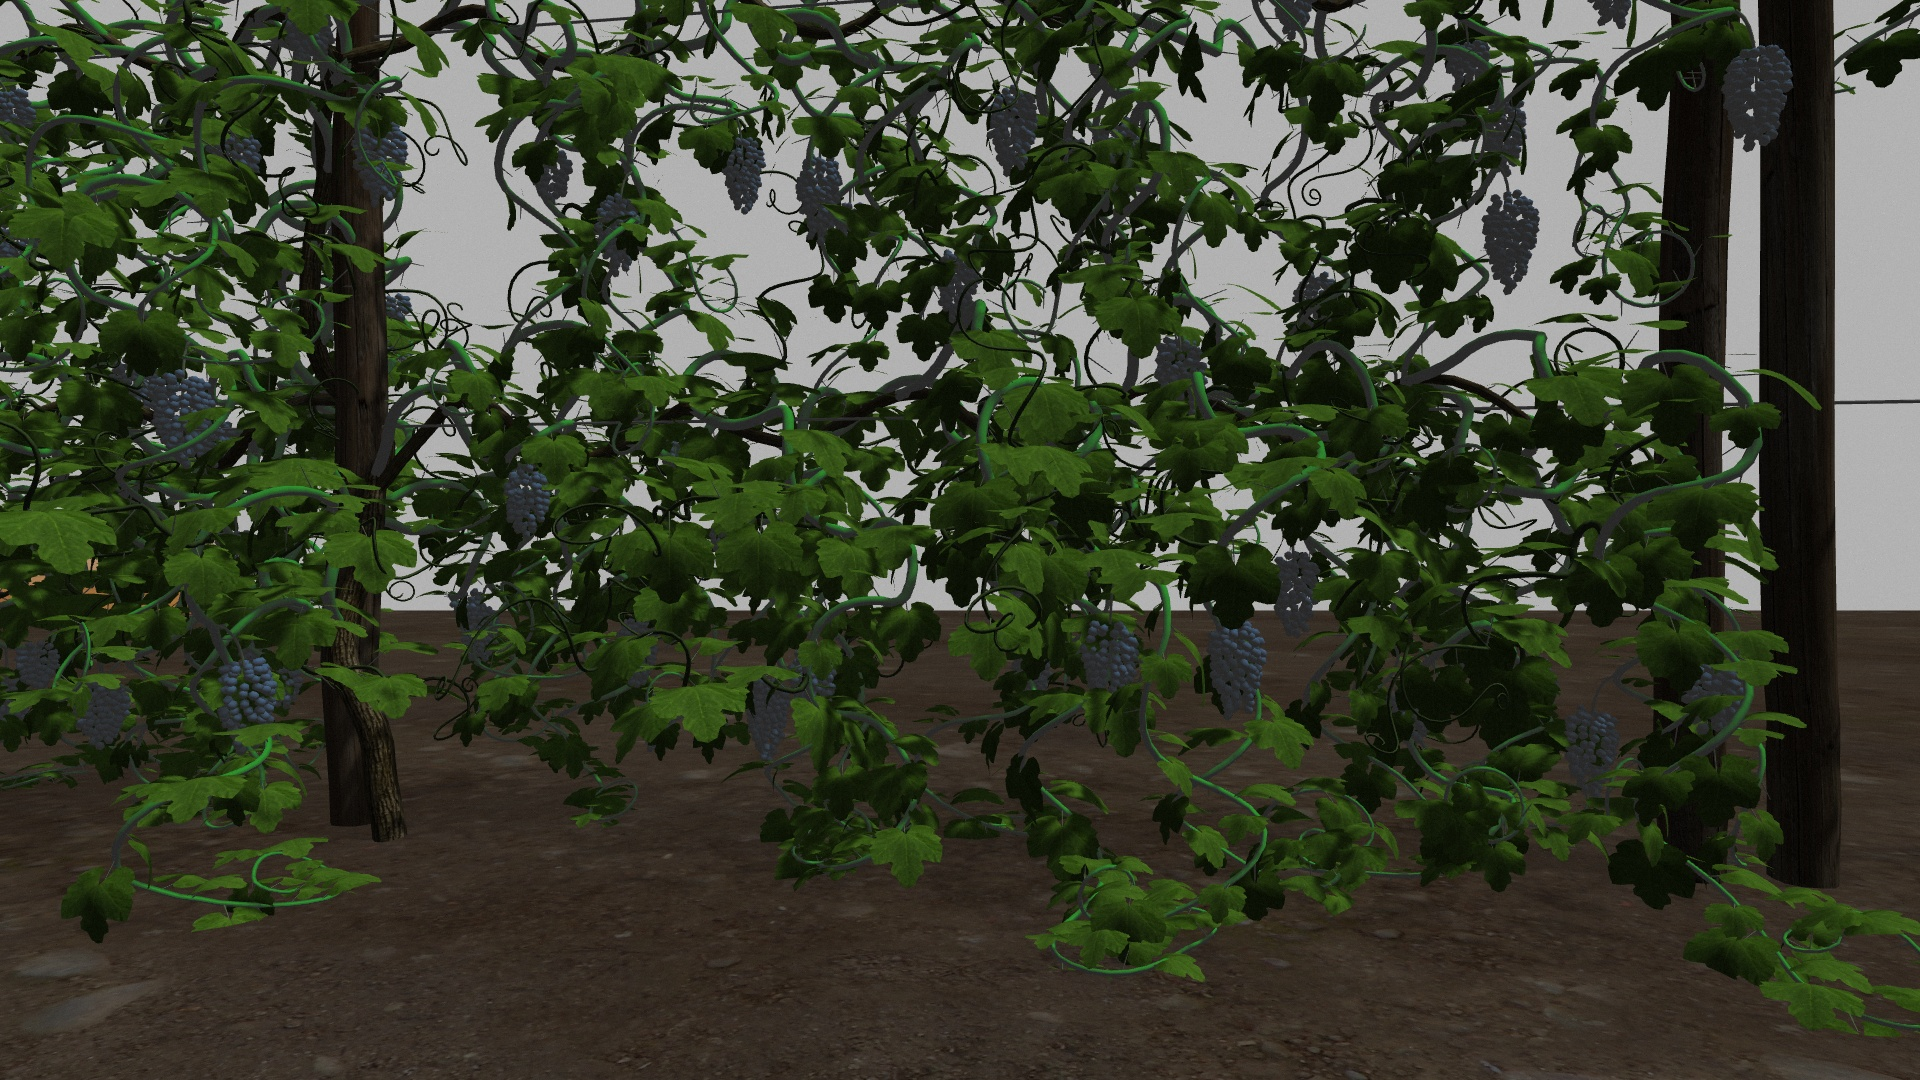grape: (1724, 41, 1793, 150), (1482, 189, 1543, 301), (1211, 617, 1271, 724), (148, 369, 214, 462), (1274, 550, 1329, 641), (1569, 708, 1622, 800), (1083, 615, 1141, 698), (73, 680, 136, 752), (986, 90, 1042, 170), (742, 675, 793, 764), (218, 658, 277, 729), (351, 128, 409, 199), (502, 465, 555, 539), (794, 156, 847, 225), (450, 589, 498, 663), (597, 198, 644, 274), (725, 135, 769, 214), (15, 638, 61, 698), (939, 255, 978, 323), (1486, 105, 1528, 167), (1155, 338, 1203, 381), (537, 146, 572, 204), (386, 291, 411, 324)
